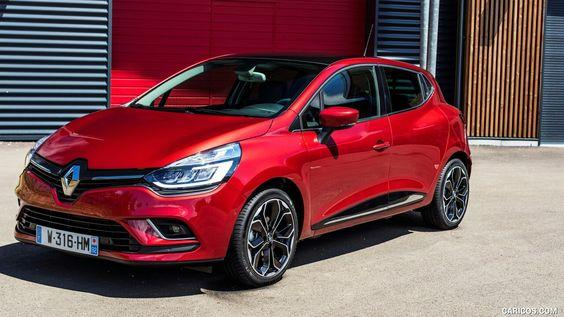Renault: (55, 161, 87, 200)
